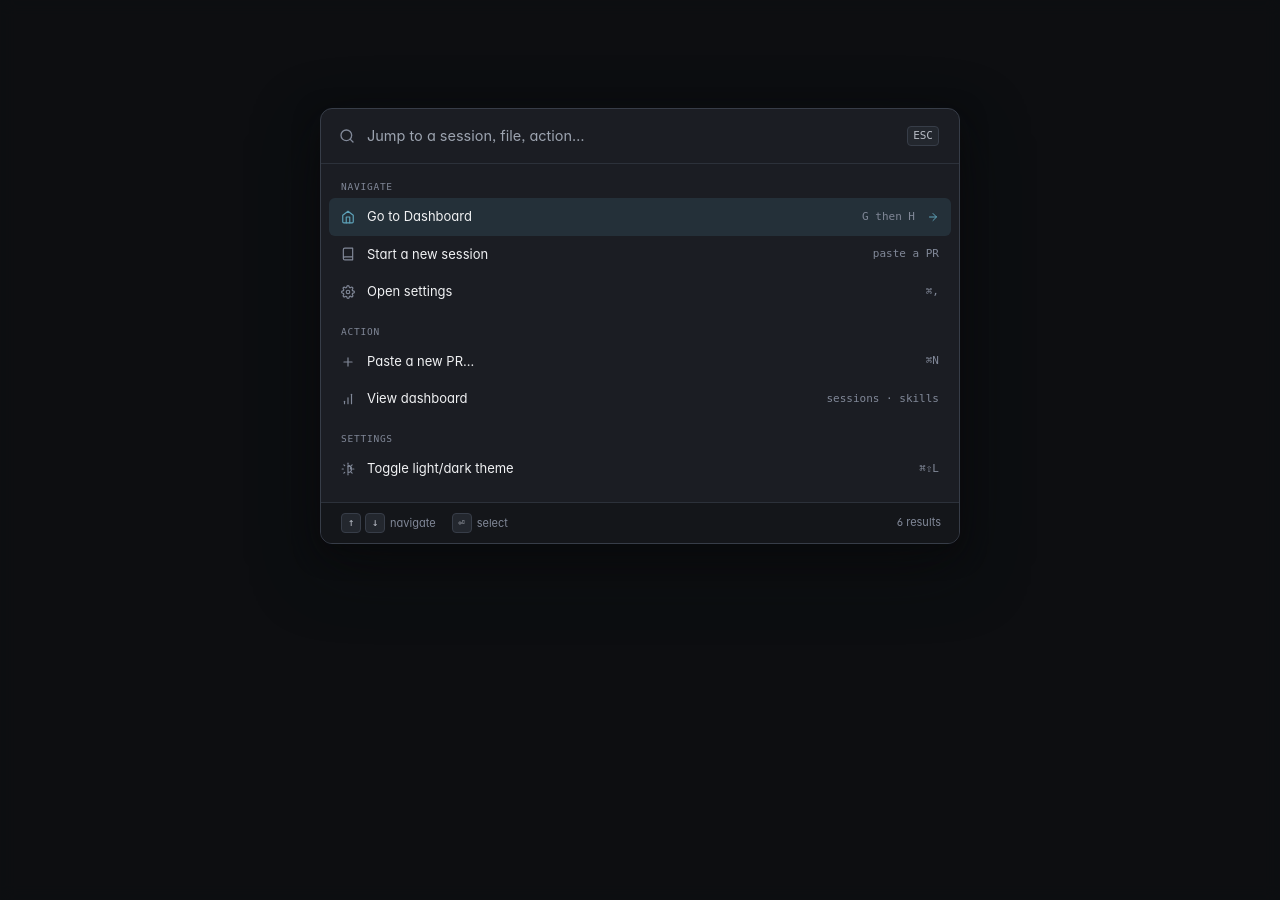
GlobalPalette › shows empty message when nothing matches
This screenshot has width=1280, height=900.
Type "zzzzzzz" into the field. click: (630, 136)
box: [367,125,893,147]
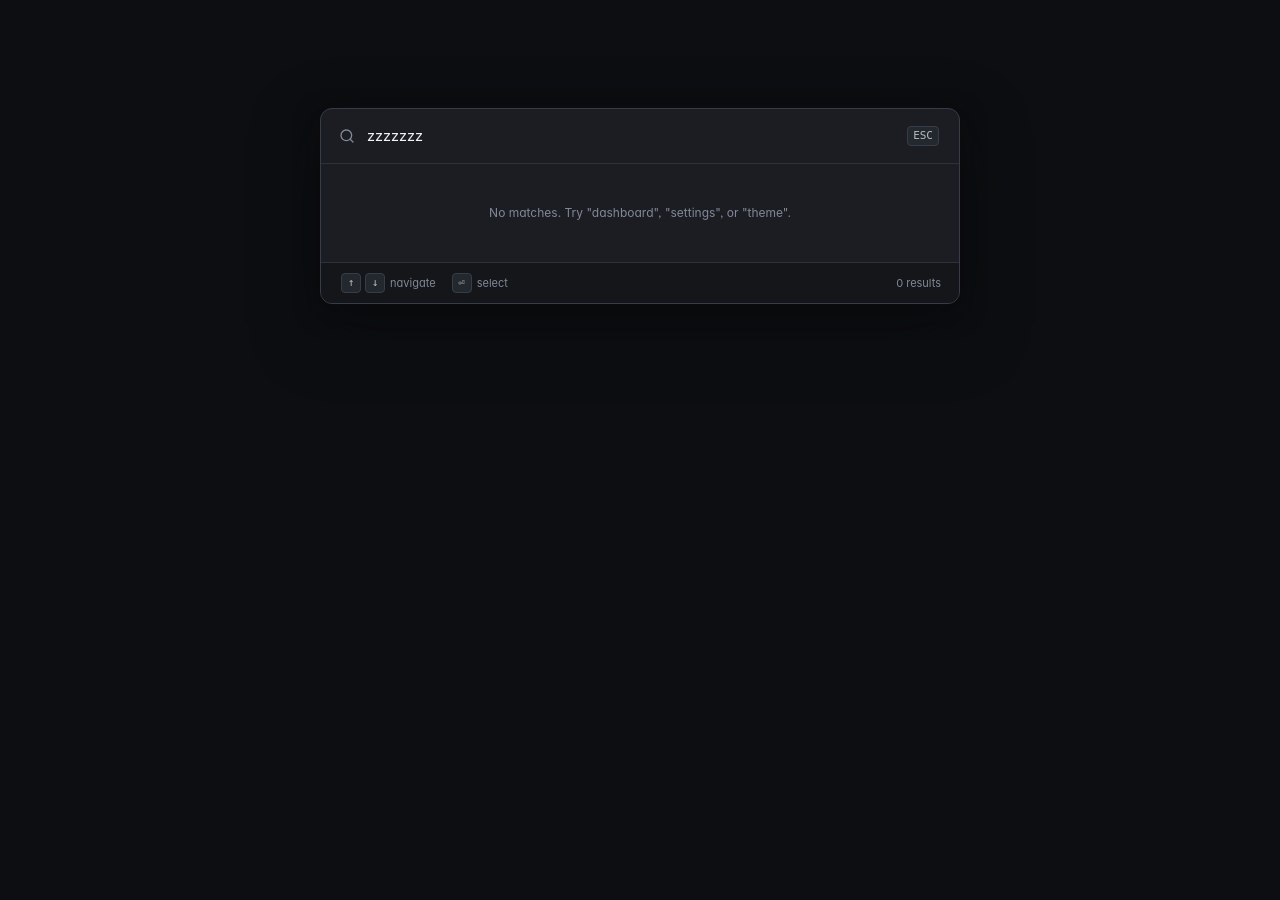
Now the text "No matches. Try \"dashboard\", \"settings\", or \"theme\"." is shown, box [489,205,791,220]
